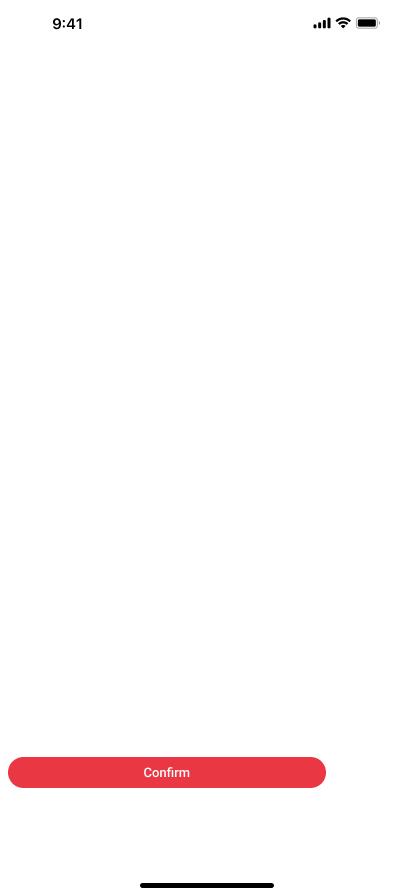Buttons: (8, 757, 326, 788)
Home Indicator: (0, 862, 414, 896)
Status Bar: (0, 0, 414, 44)
